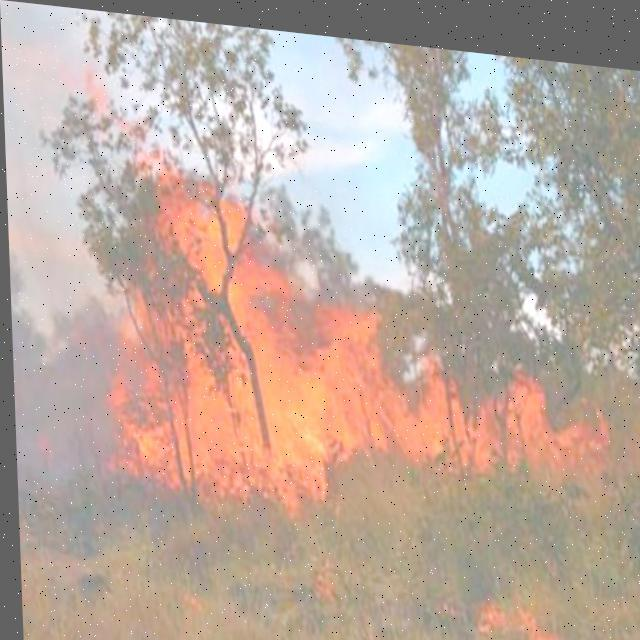Fire: (105, 130, 610, 526), (469, 592, 586, 639)
